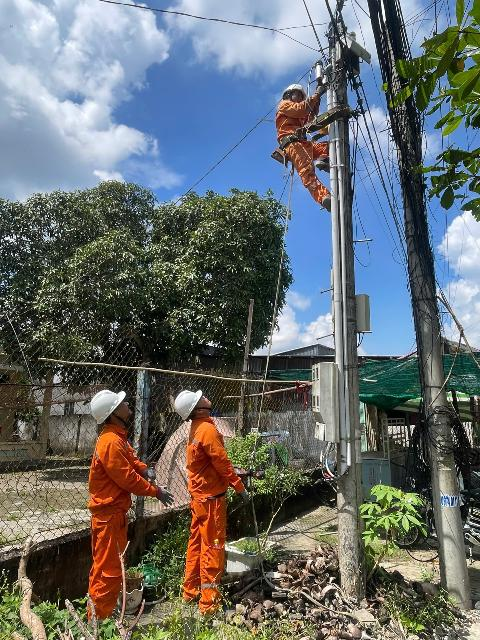gloves: (271, 127, 323, 150), (311, 80, 331, 101)
helmet: (81, 376, 130, 429), (176, 388, 207, 423), (277, 80, 310, 102)
shoes: (317, 189, 342, 215), (309, 152, 340, 172)
